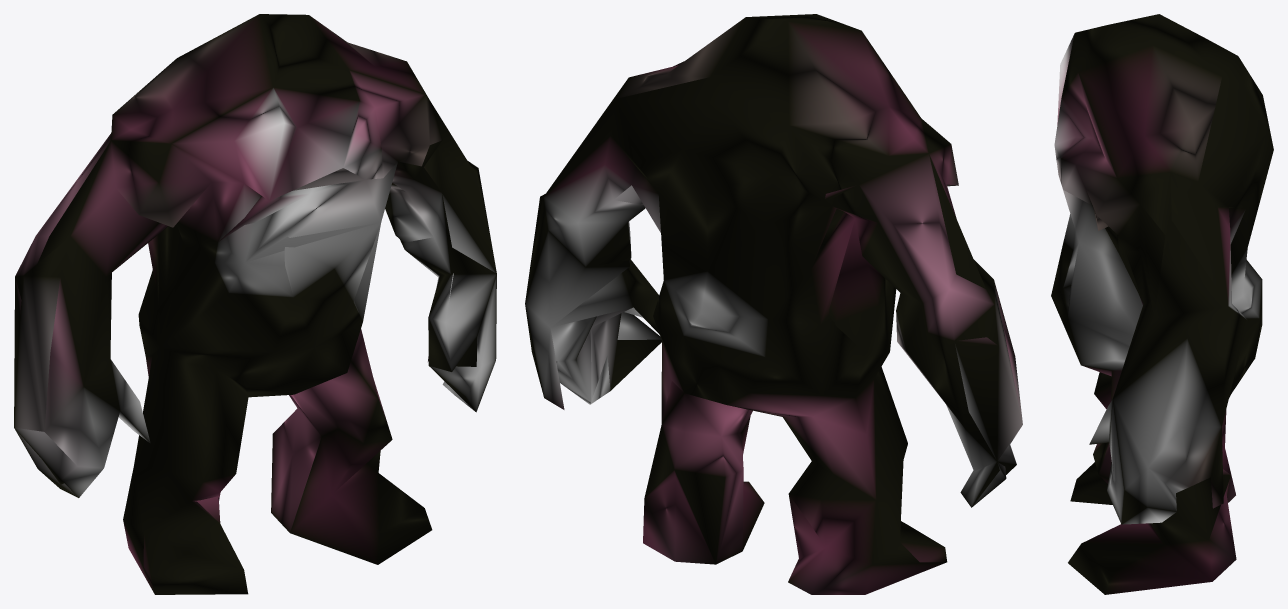
File: gen3d-mud-golem-lod1.glb
3 views of the same model, side by side, from view 1: azimuth 30°, elevation 25°; view 2: azimuth 150°, elevation 25°; view 3: azimuth 270°, elevation 25° (orthographic). The views are drawn at different scales.
Parts seen in each view (by area): view 1: part_0; view 2: part_0; view 3: part_0.
Boxes of the visible parts, x1=… form: part_0: x1=14, y1=14, x2=496, y2=594; part_0: x1=525, y1=14, x2=1022, y2=594; part_0: x1=1051, y1=14, x2=1273, y2=594.
Size of the model in its own units: 0.9118 by 0.993 by 0.3889.
